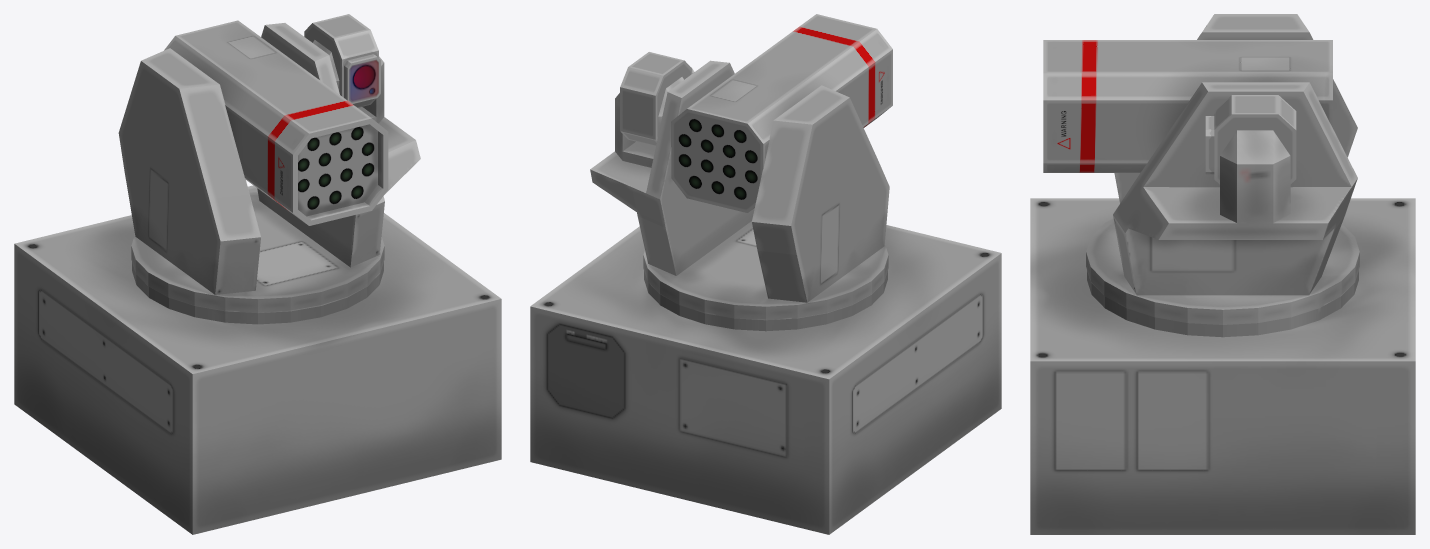
The model's file is rocket_pod.fbx.
3 views of the same model, side by side, from view 1: azimuth 30°, elevation 25°; view 2: azimuth 150°, elevation 25°; view 3: azimuth 270°, elevation 25° (orthographic). The views are drawn at different scales.
Parts seen in each view (by area): view 1: turet base, rocket_pod_body, rocket_pod, targetting_sensor, targeting_body; view 2: turet base, rocket_pod_body, rocket_pod, targetting_sensor, targeting_body; view 3: turet base, rocket_pod_body, rocket_pod, targeting_body, targetting_sensor.
Boxes of the visible parts, x1,y1,x2,y2 form: turet base: [14, 185, 501, 534]; rocket_pod_body: [118, 23, 420, 312]; rocket_pod: [164, 20, 388, 225]; targetting_sensor: [304, 14, 380, 107]; targeting_body: [313, 40, 384, 123]; turet base: [530, 225, 1001, 534]; rocket_pod_body: [590, 60, 889, 320]; rocket_pod: [671, 14, 892, 212]; targetting_sensor: [620, 52, 694, 146]; targeting_body: [615, 77, 683, 167]; turet base: [1030, 198, 1415, 534]; rocket_pod_body: [1086, 14, 1359, 324]; rocket_pod: [1043, 40, 1332, 172]; targeting_body: [1220, 130, 1290, 223]; targetting_sensor: [1205, 95, 1296, 184].
Bounding box in the file's own units: 179 × 205 × 179.
1 material, 1 textured.
